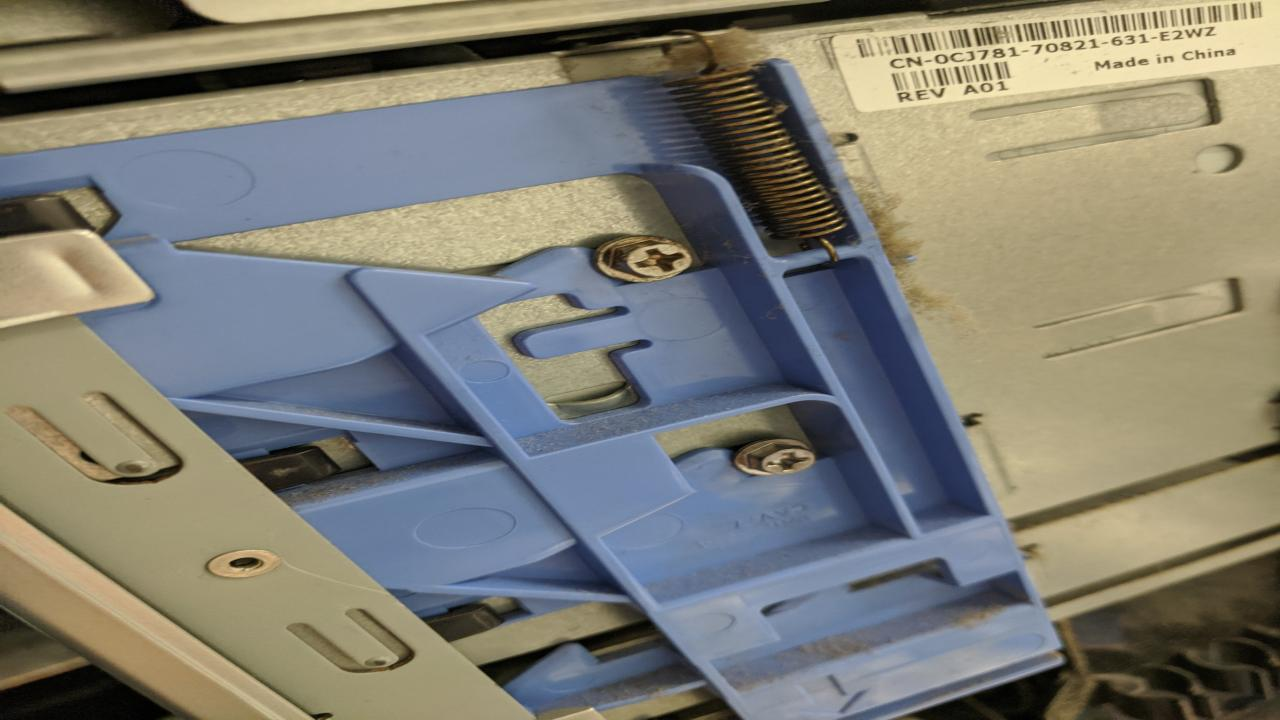CRS: (599, 238, 696, 284), (743, 440, 816, 476)
